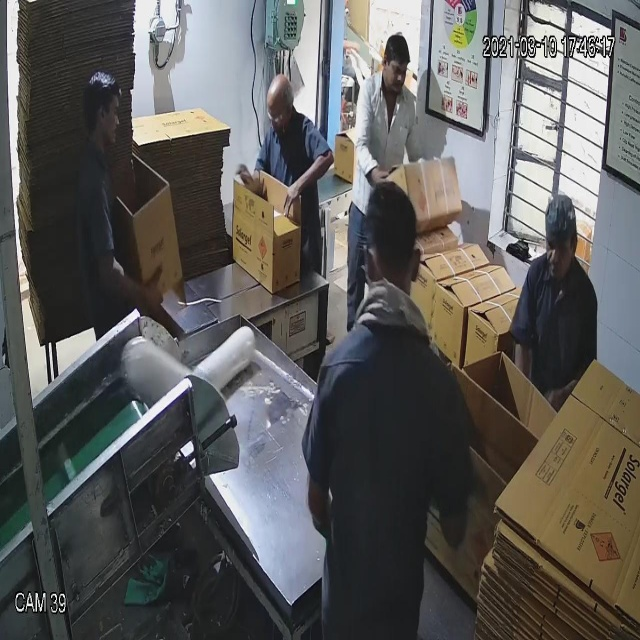Sin_guantes: (93, 235, 172, 325), (280, 142, 340, 216), (346, 124, 399, 198), (232, 145, 264, 203)
